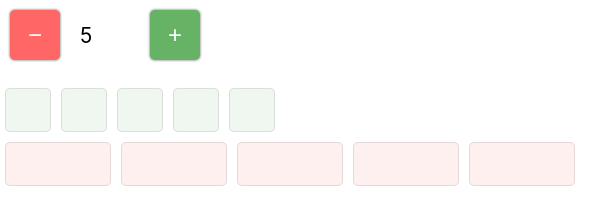
Scenario: DenyStrike Component Test › Identical characters are not allowed in strike input
In the field named "deny-strike-0": x=58, y=164 [5,142,111,186], type "ABCDABCD"
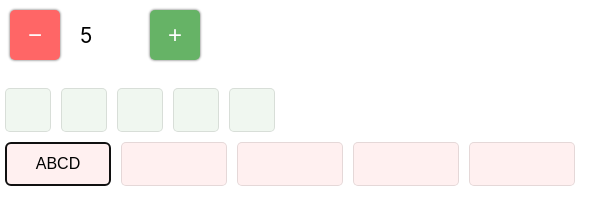
Result: the field named "deny-strike-0" holds "ABCD" at [5,142,111,186]
